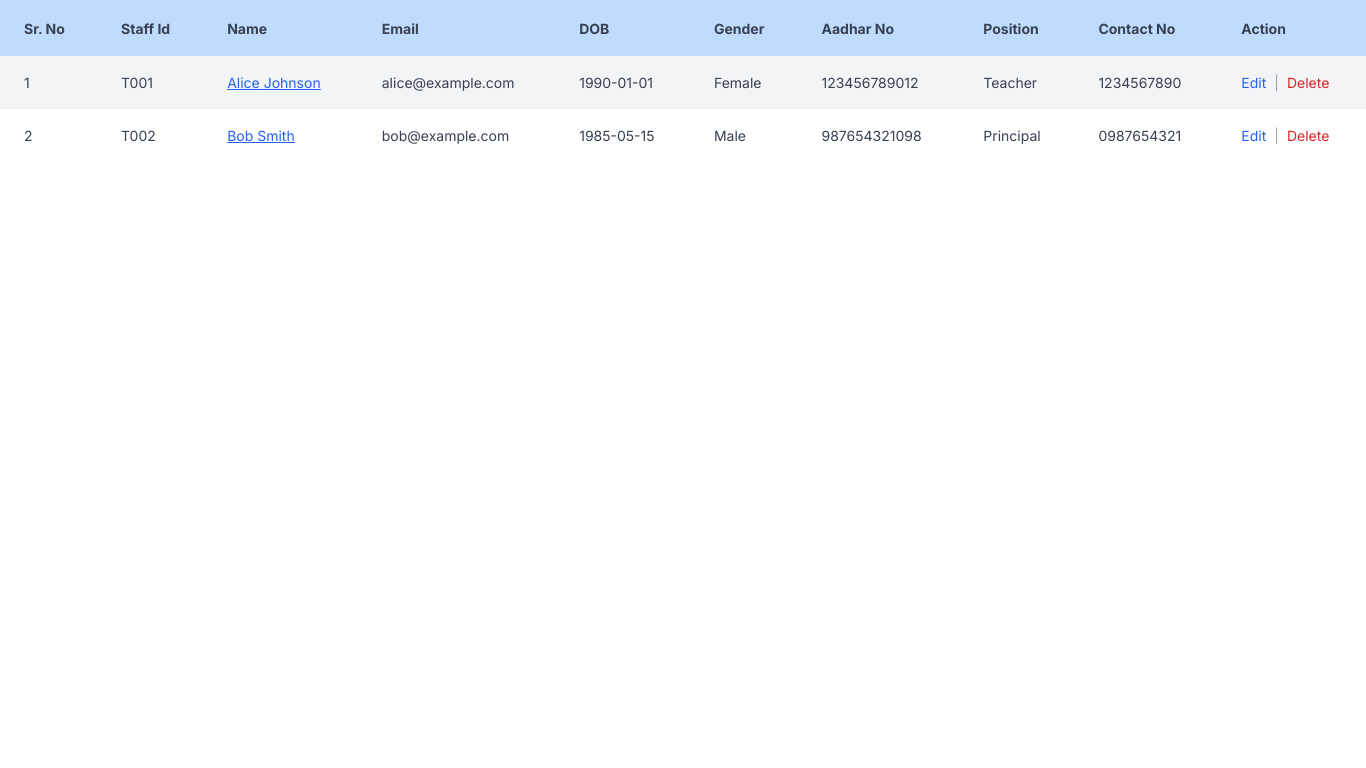
TeacherManagementTable › opens confirmation dialog on delete button click
Expected: the link "Alice Johnson" is shown, [227,74,321,91]
Click the button "Delete" in the row of "T001" at (1308, 82), box [1287,72,1329,93]
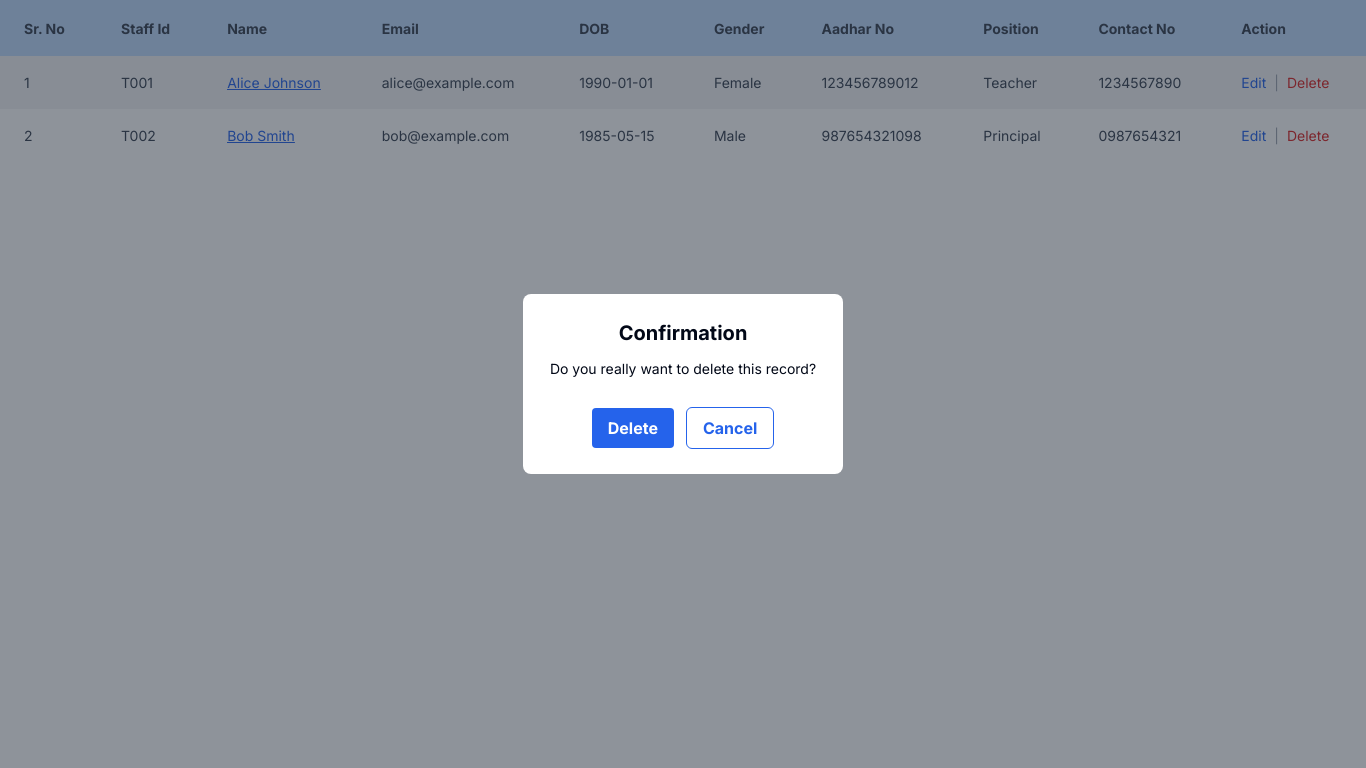
Expected: the heading "Do you really want to delete this record?" is shown, [550,359,816,379]
